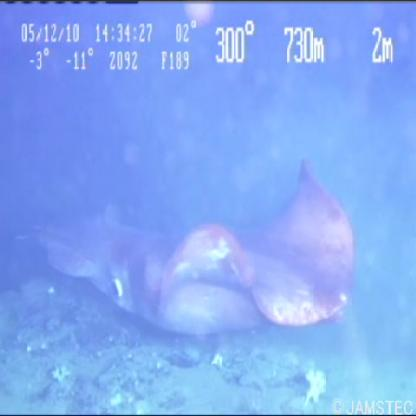Bio: (16, 153, 362, 342)
